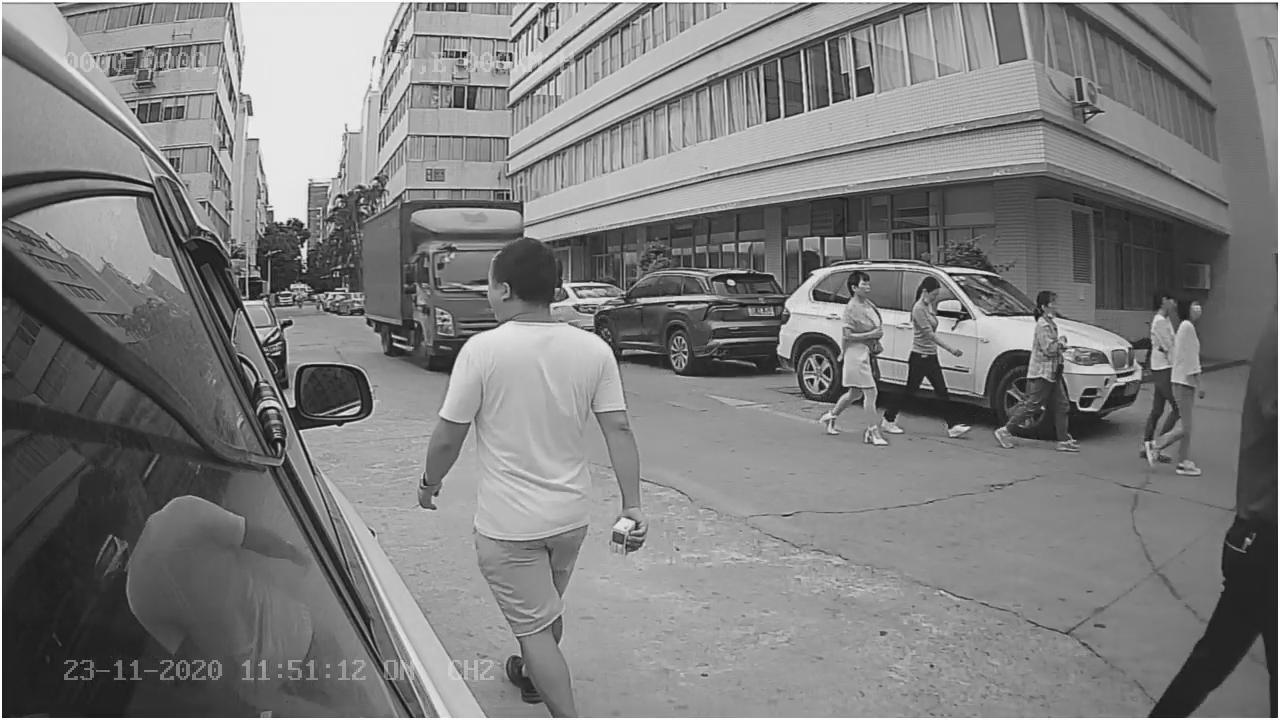person: (994, 287, 1082, 459), (817, 264, 892, 445)
